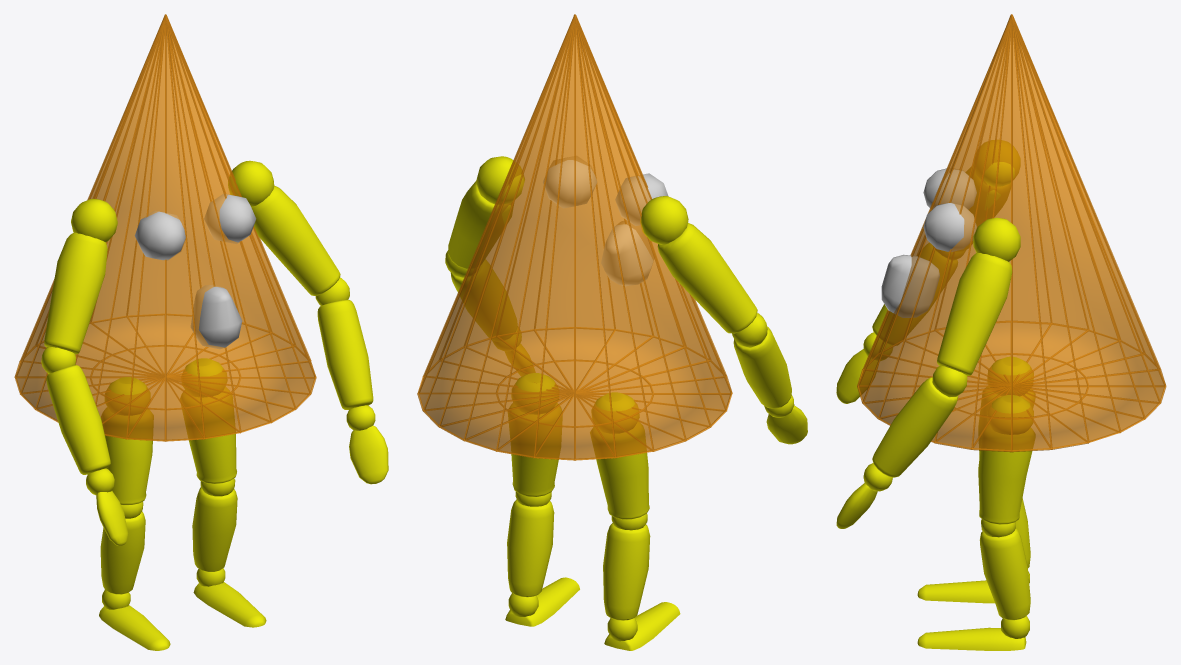
File: Cono - 11.fbx
3 renders of one model, left to right at view 1: azimuth 30°, elevation 25°; view 2: azimuth 150°, elevation 25°; view 3: azimuth 270°, elevation 25°, orthographic. The views are drawn at different scales.
Visible parts, largest first — view 1: Cono - Cuerpo1; view 2: Cono - Cuerpo1; view 3: Cono - Cuerpo1.
Boxes of the visible parts, bbox=[...] form: Cono - Cuerpo1: bbox=[14, 14, 388, 650]; Cono - Cuerpo1: bbox=[417, 14, 807, 650]; Cono - Cuerpo1: bbox=[836, 14, 1166, 650].
Bounding box in the file's own units: 153 × 282 × 140.
